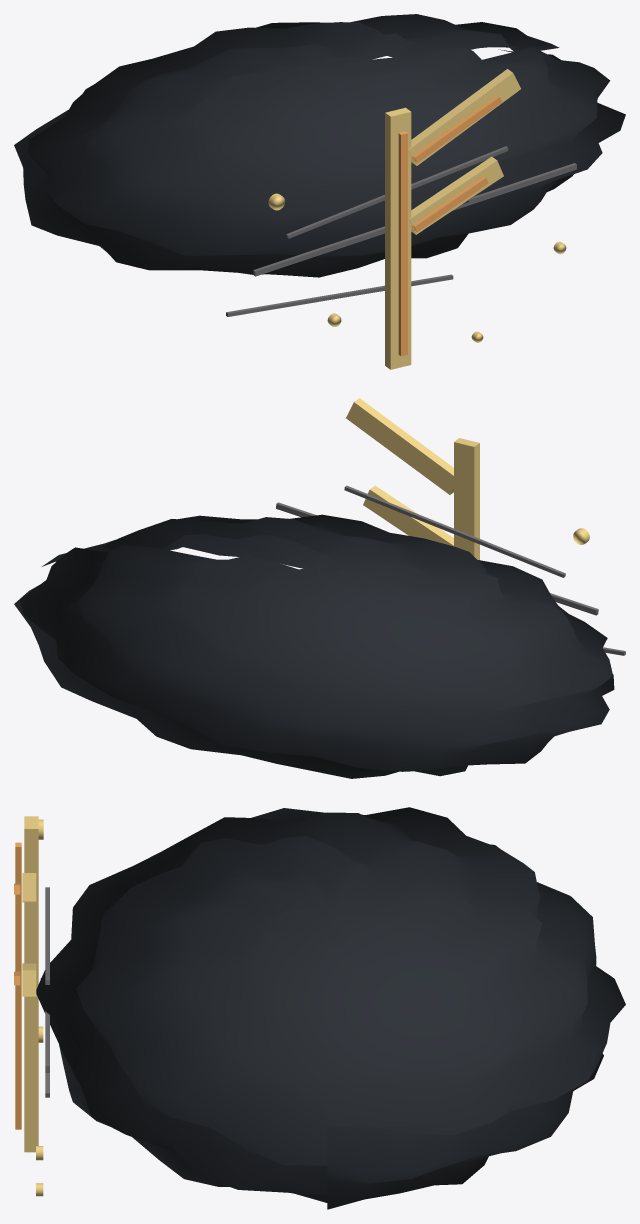
File: rune-stone.glb
The picture shows the model from 3 angles, top to bottom: view 1: azimuth 30°, elevation 25°; view 2: azimuth 150°, elevation 25°; view 3: azimuth 270°, elevation 25°; orthographic projection. The views are drawn at different scales.
Visible parts, largest first — view 1: hand tumbled asymmetric rune stone, deep fehu rune engraved channel, natural mineral veins across stone, inner amber highlight in rune grooves, small grounding chips around carved rune; view 2: hand tumbled asymmetric rune stone, deep fehu rune engraved channel, natural mineral veins across stone; view 3: hand tumbled asymmetric rune stone, deep fehu rune engraved channel, inner amber highlight in rune grooves, natural mineral veins across stone.
Boxes of the visible parts, x1,y1,x2,y2 form: hand tumbled asymmetric rune stone: (14, 14, 625, 277); deep fehu rune engraved channel: (385, 69, 520, 369); natural mineral veins across stone: (226, 146, 576, 316); inner amber highlight in rune grooves: (398, 95, 502, 356); small grounding chips around carved rune: (268, 193, 566, 342); hand tumbled asymmetric rune stone: (14, 514, 614, 778); deep fehu rune engraved channel: (346, 398, 479, 560); natural mineral veins across stone: (276, 485, 625, 655); hand tumbled asymmetric rune stone: (36, 807, 625, 1209); deep fehu rune engraved channel: (22, 816, 38, 1152); inner amber highlight in rune grooves: (14, 842, 21, 1129); natural mineral veins across stone: (45, 887, 49, 1097).
Bounding box in the file's own units: 2.05 × 0.9316 × 1.51.
